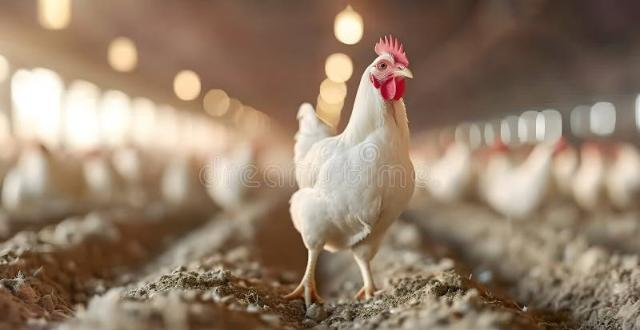Chicken: (289, 33, 418, 307)
